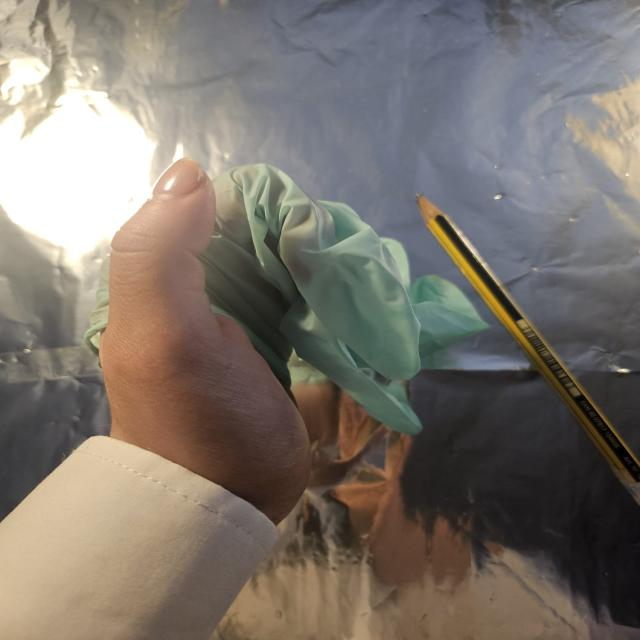glove_partial: (75, 154, 491, 511)
